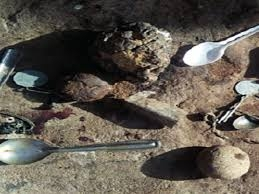metal: (1, 128, 164, 174)
plastic: (180, 21, 258, 68)
